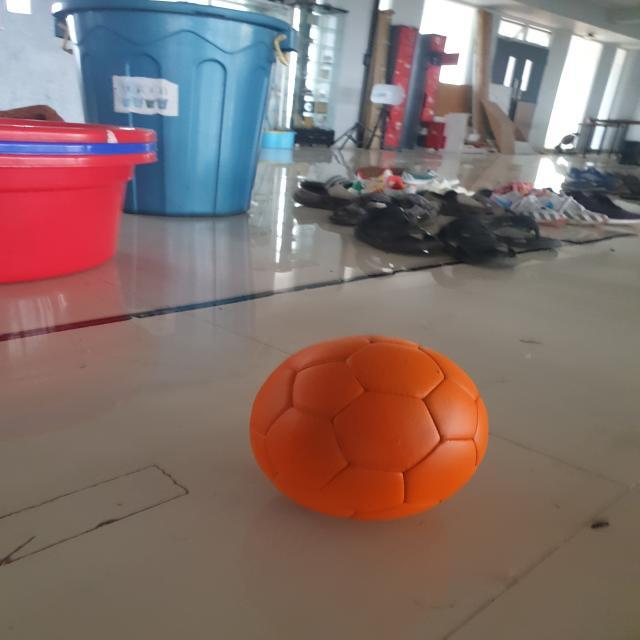bola: (248, 334, 496, 526)
